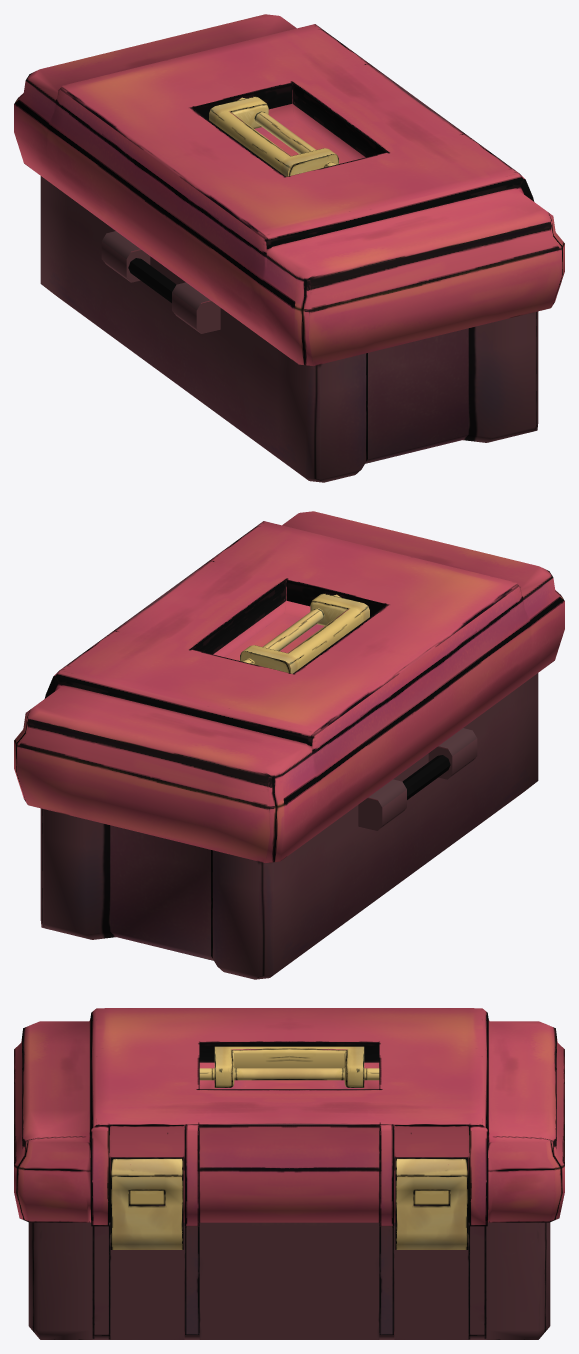
Rendered from Valija_V3.fbx.
3 views of the same model, one above another, from view 1: azimuth 30°, elevation 25°; view 2: azimuth 150°, elevation 25°; view 3: azimuth 270°, elevation 25° (orthographic). The views are drawn at different scales.
Visible parts, largest first — view 1: Cube.027, Cube.019, Cube.026; view 2: Cube.027, Cube.019, Cube.026; view 3: Cube.027, Cube.019, Cube.025, Cube.029, Cube.026.
Part boxes in pixels (bbox=[...]): Cube.027: bbox=[14, 14, 564, 366]; Cube.019: bbox=[40, 176, 538, 482]; Cube.026: bbox=[209, 96, 338, 176]; Cube.027: bbox=[14, 511, 564, 863]; Cube.019: bbox=[40, 673, 538, 979]; Cube.026: bbox=[240, 593, 369, 673]; Cube.027: bbox=[14, 1008, 564, 1226]; Cube.019: bbox=[28, 1222, 550, 1339]; Cube.025: bbox=[110, 1157, 183, 1249]; Cube.029: bbox=[395, 1157, 468, 1249]; Cube.026: bbox=[214, 1046, 364, 1087].
Bounding box in the file's own units: 30.78 × 24.51 × 54.82.
Materials: 1 (1 with a texture image).
